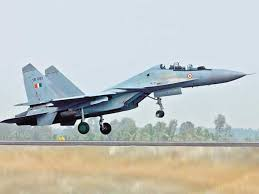maybay_muctieu: (13, 61, 251, 134)
